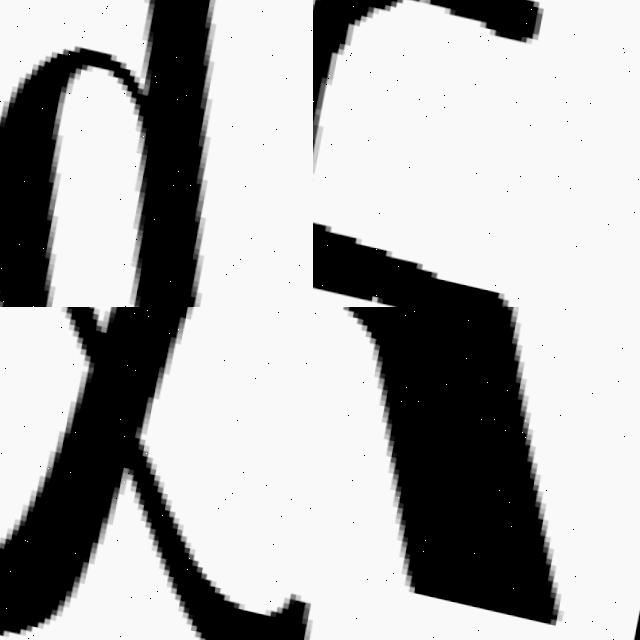Q: (0, 0, 297, 307)
T: (313, 0, 577, 307)
U: (313, 307, 640, 630)
X: (0, 307, 313, 640)
